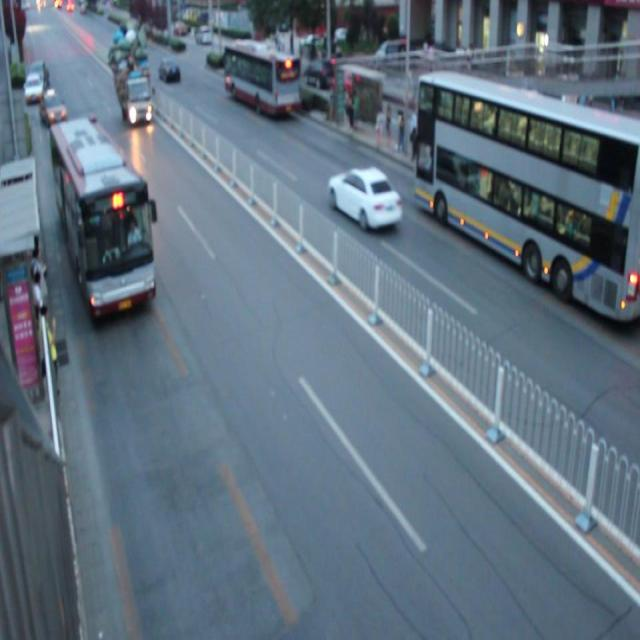bus: (109, 23, 152, 126)
car: (327, 165, 402, 230), (40, 88, 69, 130), (158, 58, 182, 87)
van: (416, 74, 640, 318), (50, 119, 156, 320), (223, 39, 301, 119)
